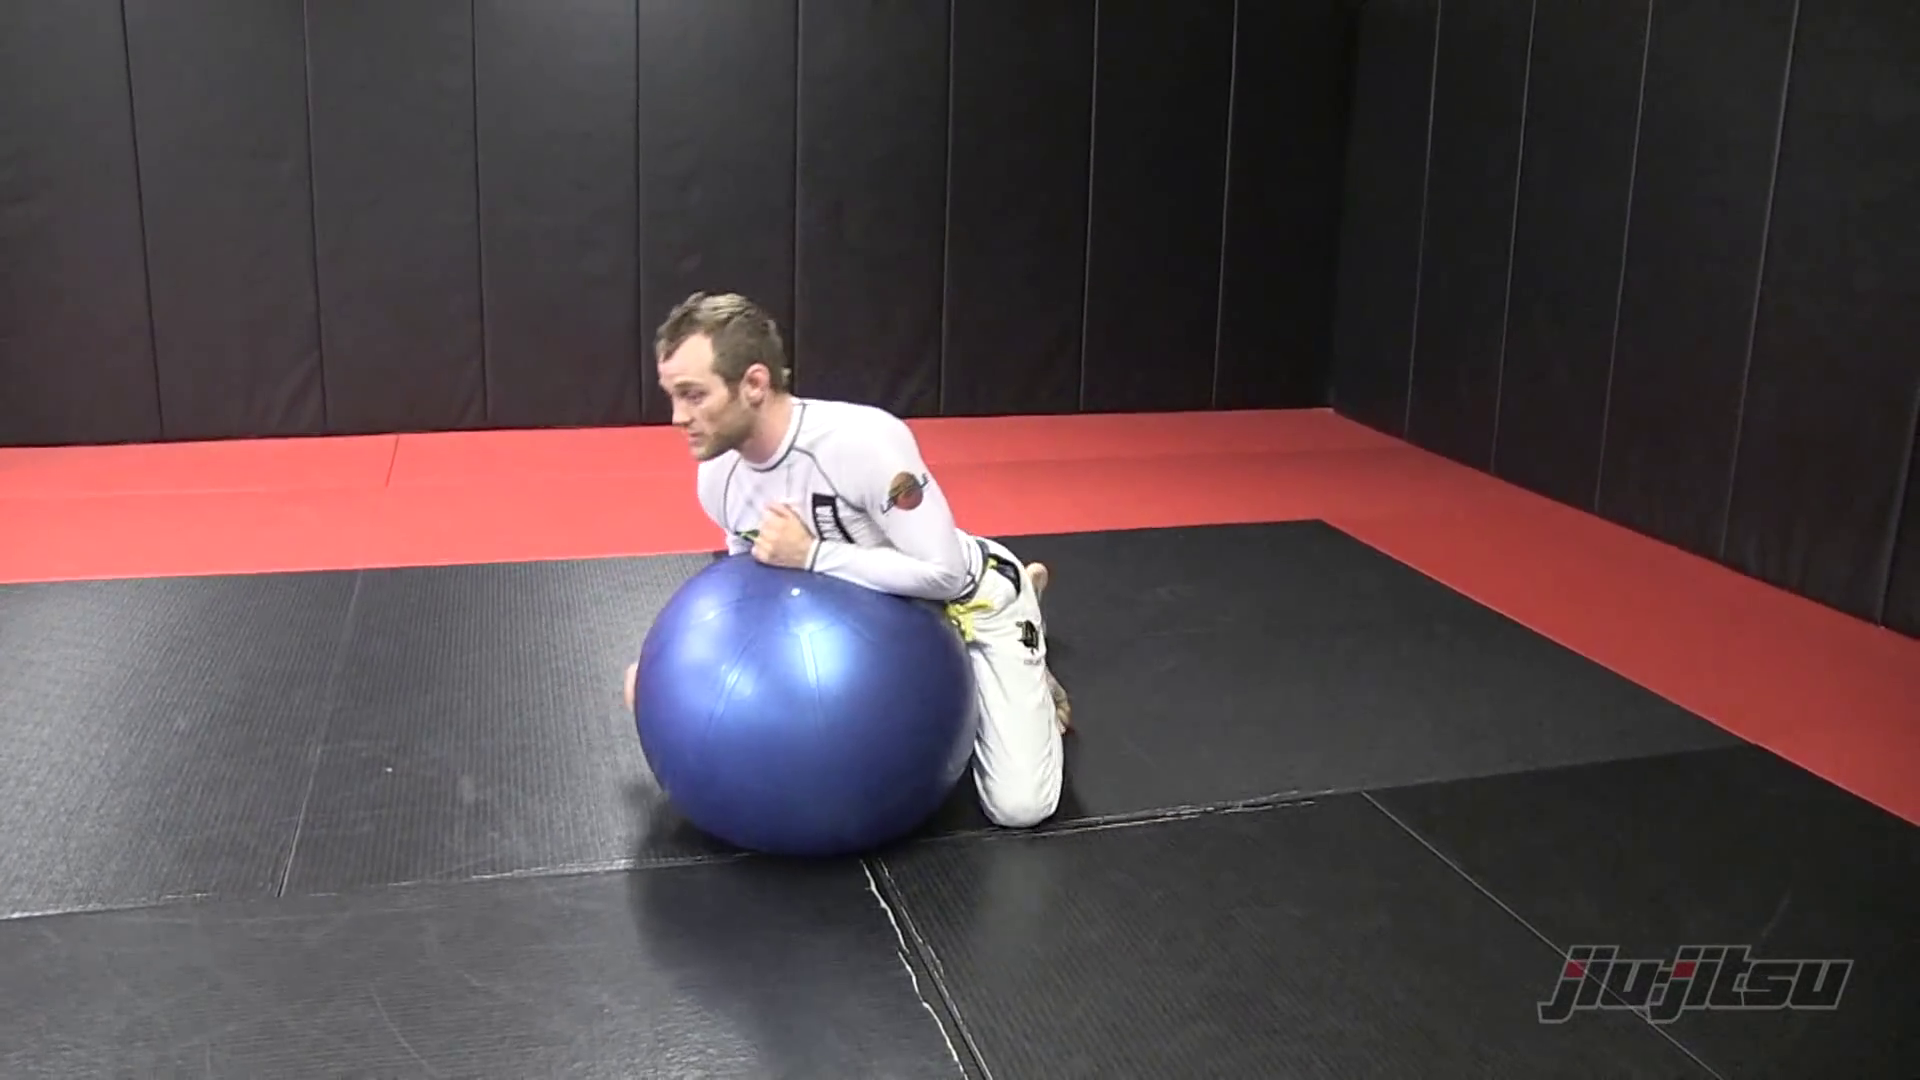yogaball: (616, 549, 989, 870)
